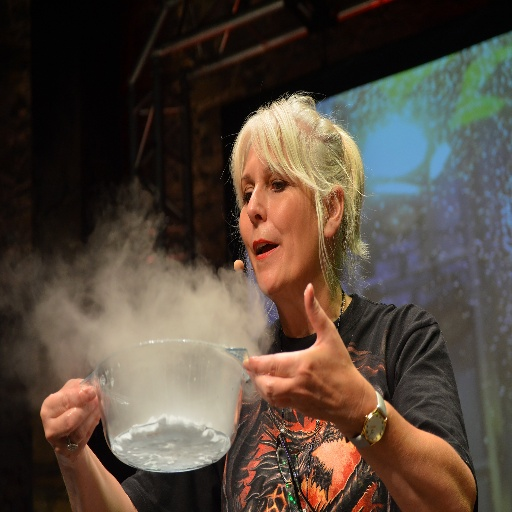hand: (251, 299, 398, 452), (38, 376, 105, 465)
